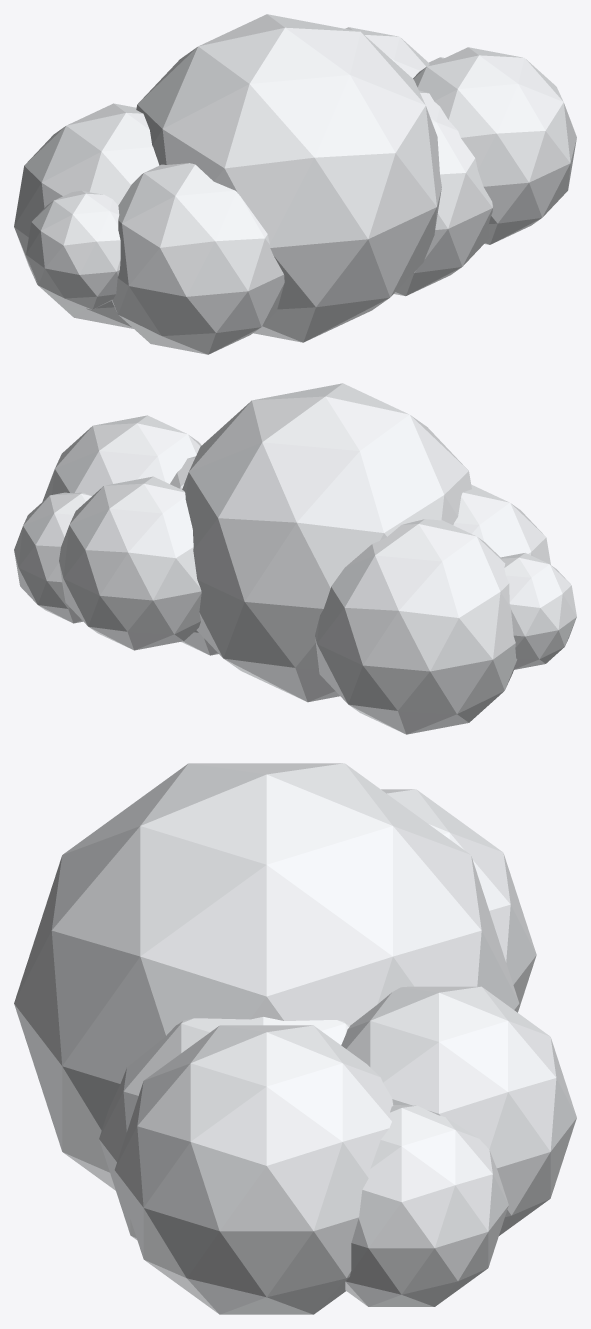
Rendered from Environment_Objects_Cloud_01.fbx.
The picture shows the model from 3 angles, top to bottom: view 1: azimuth 30°, elevation 25°; view 2: azimuth 150°, elevation 25°; view 3: azimuth 270°, elevation 25°; orthographic projection. The views are drawn at different scales.
Visible parts, largest first — view 1: Environment_Objects_Cloud_01; view 2: Environment_Objects_Cloud_01; view 3: Environment_Objects_Cloud_01.
Part boxes in pixels (x1,y1,x2,y2): Environment_Objects_Cloud_01: (14, 14, 576, 354); Environment_Objects_Cloud_01: (14, 383, 576, 734); Environment_Objects_Cloud_01: (14, 763, 576, 1314).
Bounding box in the file's own units: 1539 × 843 × 939.
